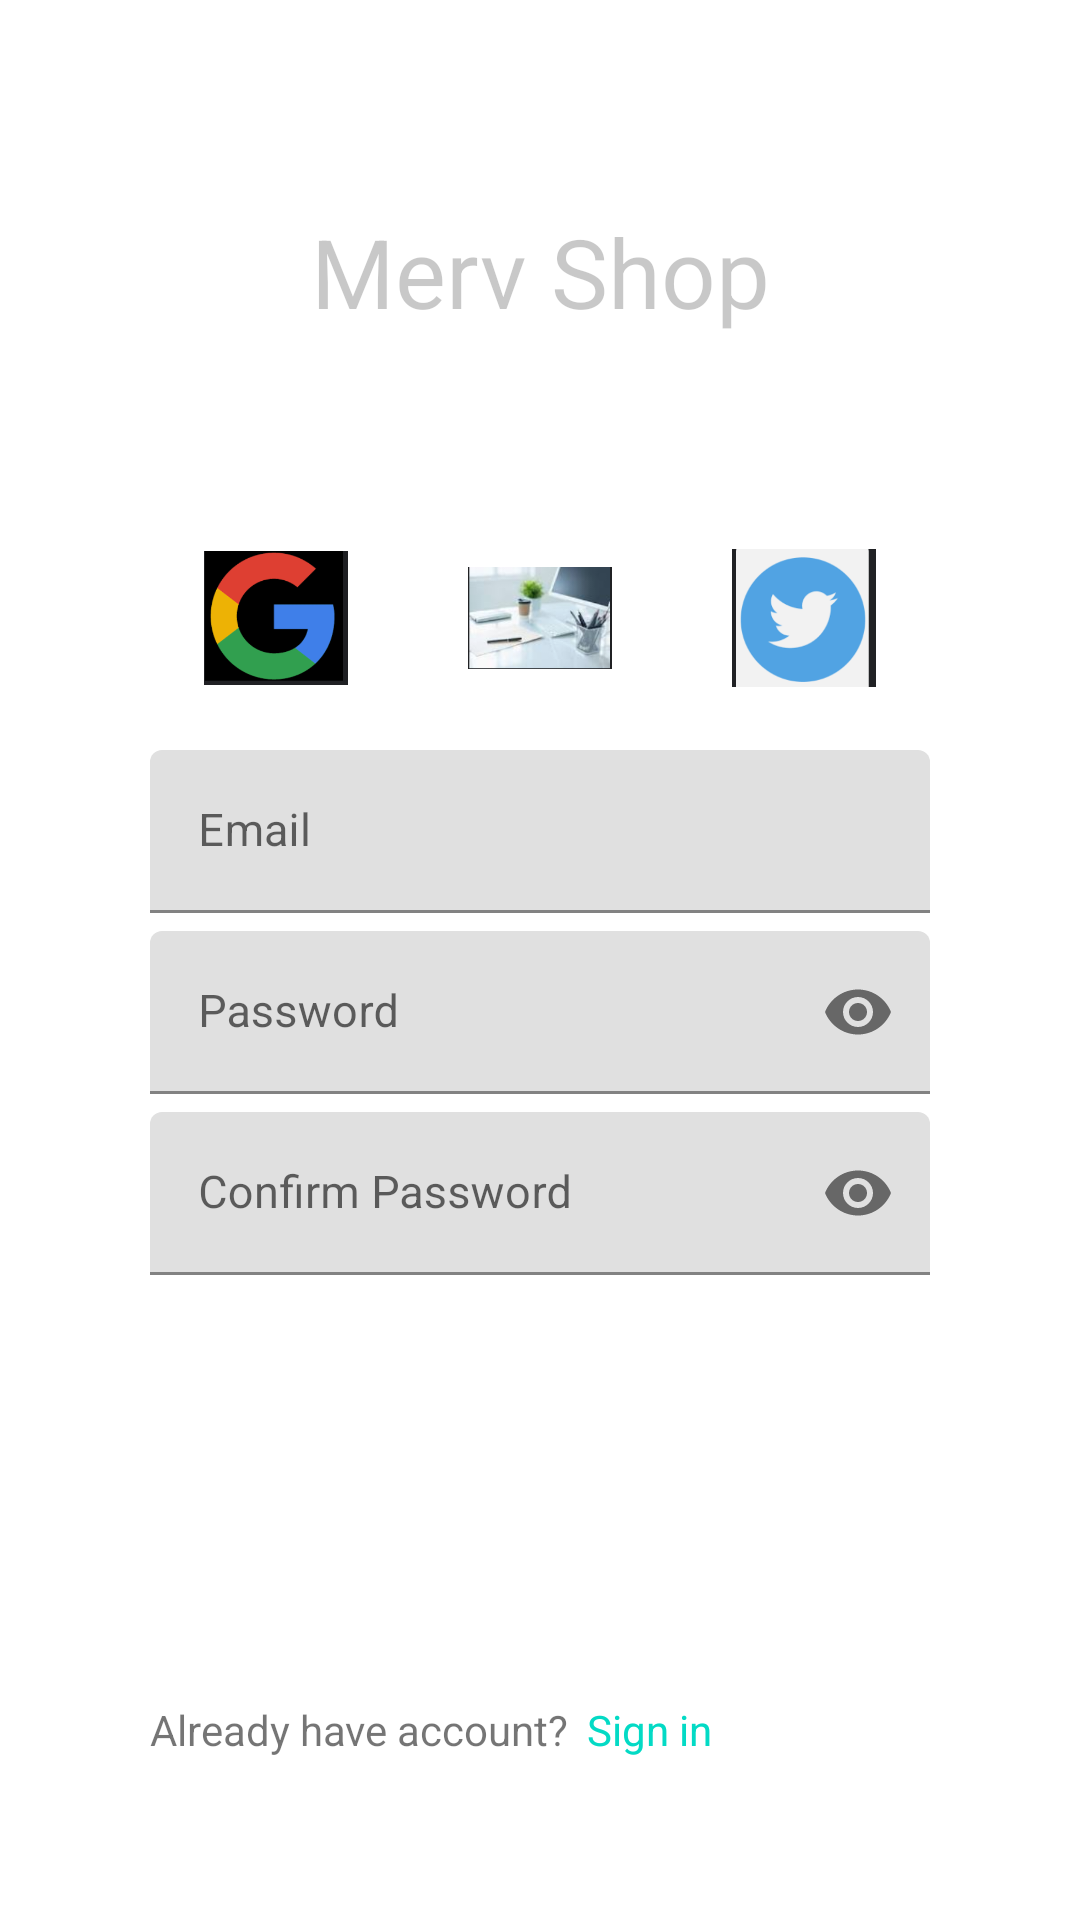

Icon bounding boxes for this 1080px×1920px phone screenshot, format (x1, y1, x2, y2):
bureau: (468, 567, 612, 669)
